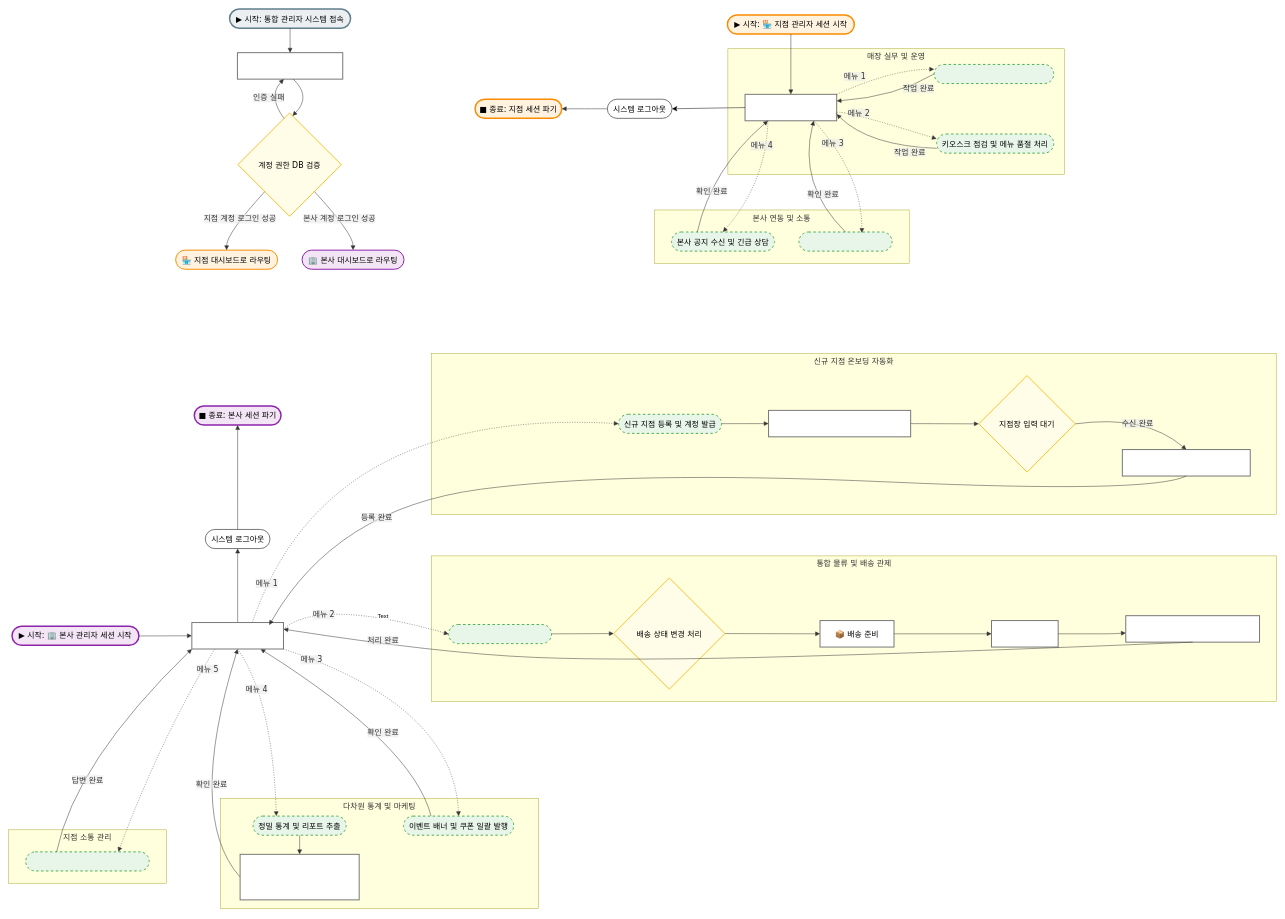
This 1285x919 diagram has some shape labels left out. The centre of each missing label's shape, as x and y in pixels:
"✅ 배송 완료 및 지점 자동 알림" belongs at pixel 1192 628.
"매출: 지점/상품/시간/전체 지출: 지점/전체 기간별 종합 통계" belongs at pixel 299 877.
"물류 발주 승인 및 상태 관리" belongs at pixel 500 634.
"본사 최종 검토 및 시스템 승인" belongs at pixel 1186 462.
"본사 통합 대시보드" belongs at pixel 237 635.
"부족 재고 본사 발주 요청" belongs at pixel 845 241.
"신규 주문 접수 및 당일 매출 확인" belongs at pixel 993 74.
"아이디 / 비밀번호 입력" belongs at pixel 290 65.
"지점 공지 발송 및 실시간 1:1 상담" belongs at pixel 87 861.
"지점 실무 대시보드" belongs at pixel 790 107.
"지점장에게 정보 입력 폼 링크 발송" belongs at pixel 839 423.
"🚚 배송 중" belongs at pixel 1024 633.
